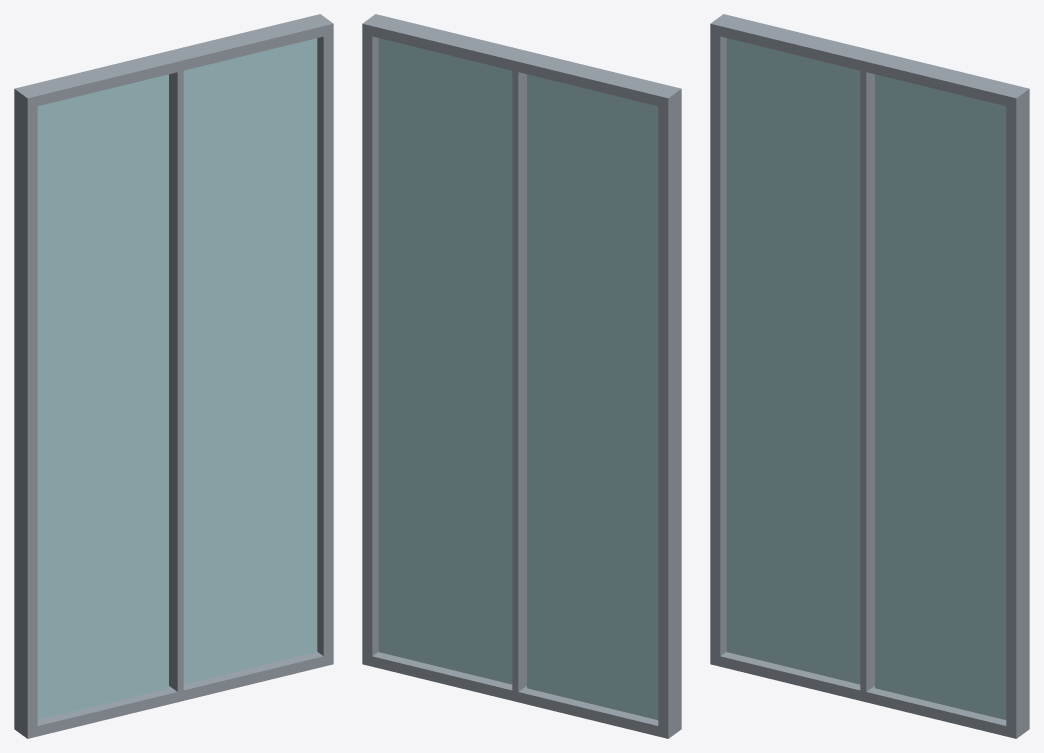
The model's file is Wall_Glazing_4x8.fbx.
3 renders of one model, left to right at view 1: azimuth 30°, elevation 25°; view 2: azimuth 150°, elevation 25°; view 3: azimuth 330°, elevation 25°, orthographic.
Parts seen in each view (by area): view 1: Glazing_Glass, Glazing_Frame; view 2: Glazing_Glass, Glazing_Frame; view 3: Glazing_Glass, Glazing_Frame.
Part boxes in pixels (box(x1,y1,x2,y2)): Glazing_Glass: box(37, 38, 317, 719); Glazing_Frame: box(14, 14, 333, 738); Glazing_Glass: box(378, 38, 658, 719); Glazing_Frame: box(362, 14, 681, 738); Glazing_Glass: box(726, 38, 1006, 719); Glazing_Frame: box(710, 14, 1029, 738).
Bounding box in the file's own units: 400 × 800 × 30.
